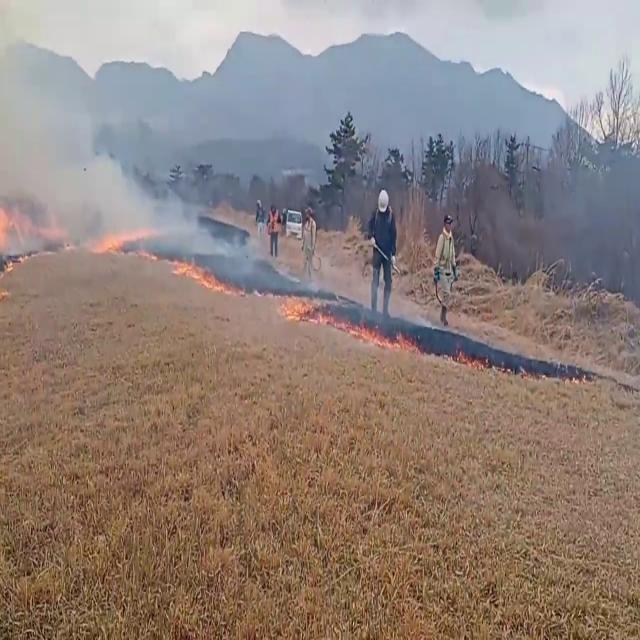Fire: (88, 218, 164, 262), (167, 250, 233, 292), (272, 288, 318, 326)
Smoke: (0, 2, 244, 261)
